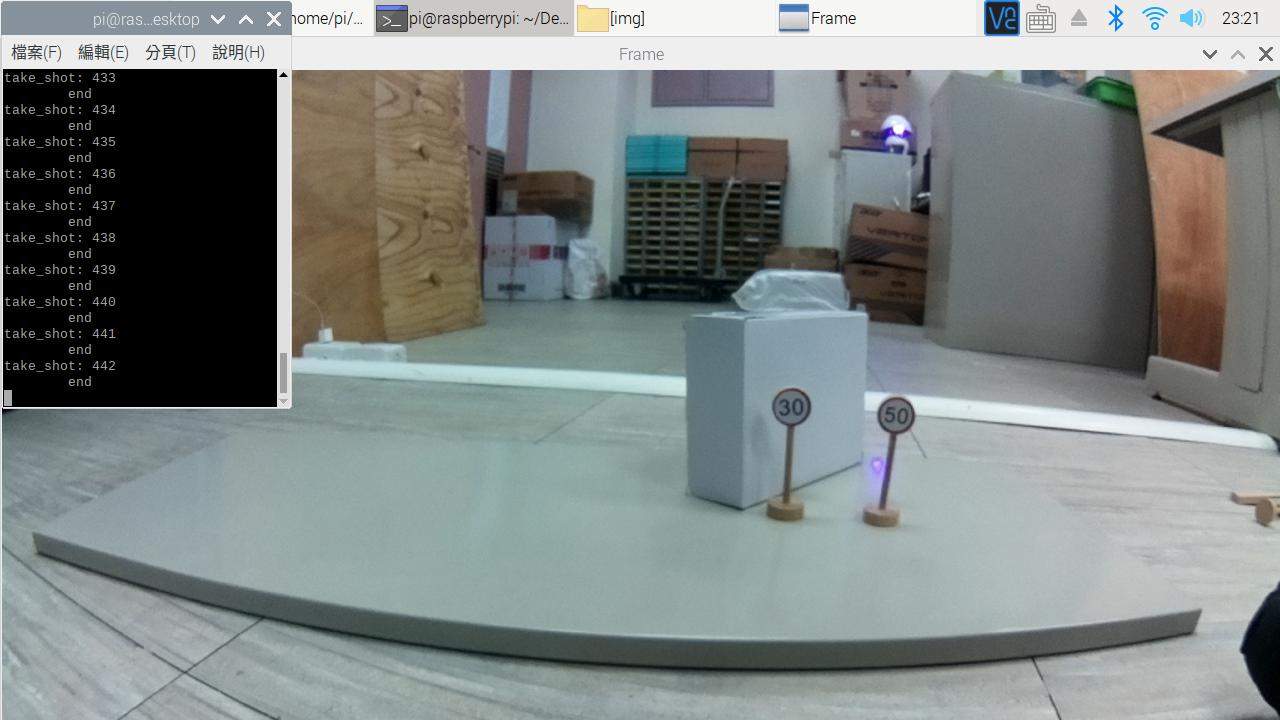Speed30: (760, 375, 820, 434)
Speed50: (872, 394, 937, 443)
